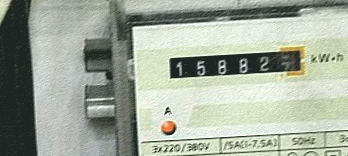1: (174, 60, 184, 77)
2: (258, 54, 269, 72)
5: (195, 59, 206, 75)
7: (280, 60, 290, 72)
8: (237, 57, 248, 74), (216, 59, 227, 75)
screen: (161, 41, 311, 88)
